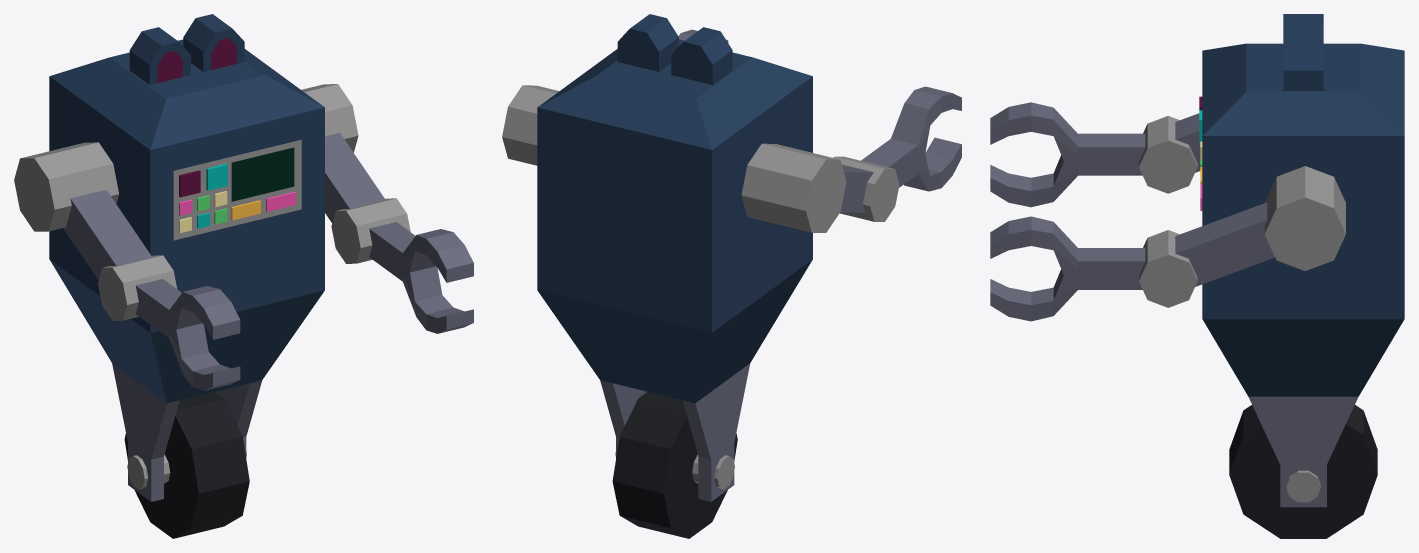
Rendered from robot.fbx.
3 renders of one model, left to right at view 1: azimuth 30°, elevation 25°; view 2: azimuth 150°, elevation 25°; view 3: azimuth 270°, elevation 25°, orthographic.
Visible parts, largest first — view 1: Robot.001; view 2: Robot.001; view 3: Robot.001.
Boxes of the visible parts, x1,y1,x2,y2 form: Robot.001: (14,14,473,538); Robot.001: (502,14,961,538); Robot.001: (990,14,1404,538).
Size of the model in its own units: 331 by 390 by 514.
